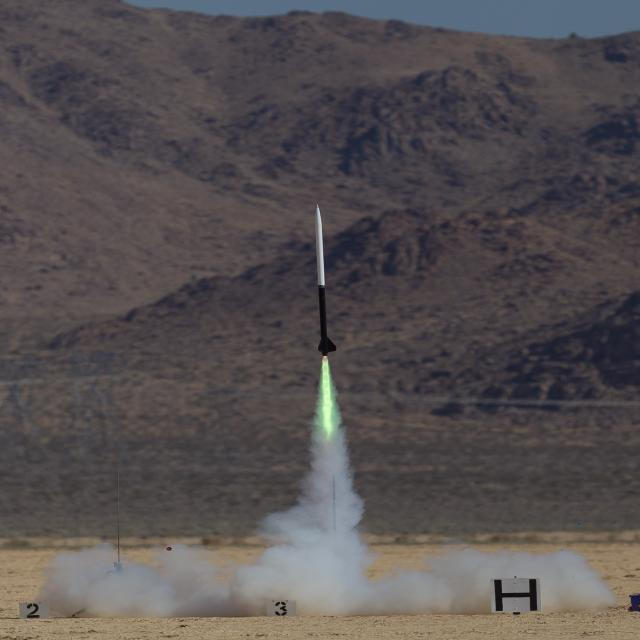Rocket: (314, 202, 337, 358)
